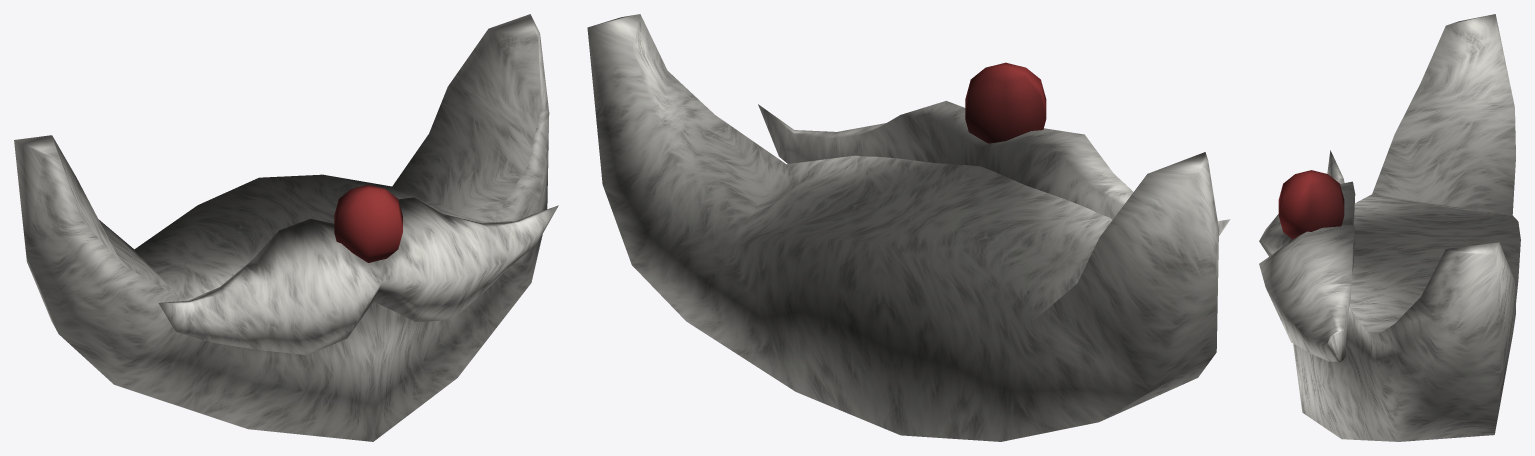
The model's file is MustacheA.fbx.
3 renders of one model, left to right at view 1: azimuth 30°, elevation 25°; view 2: azimuth 150°, elevation 25°; view 3: azimuth 270°, elevation 25°, orthographic. The views are drawn at different scales.
Parts seen in each view (by area): view 1: MustacheA; view 2: MustacheA; view 3: MustacheA.
Boxes of the visible parts, bbox=[...] form: MustacheA: bbox=[14, 14, 558, 441]; MustacheA: bbox=[587, 14, 1230, 441]; MustacheA: bbox=[1259, 14, 1520, 441].
Bounding box in the file's own units: 37.56 × 20.07 × 17.12.
